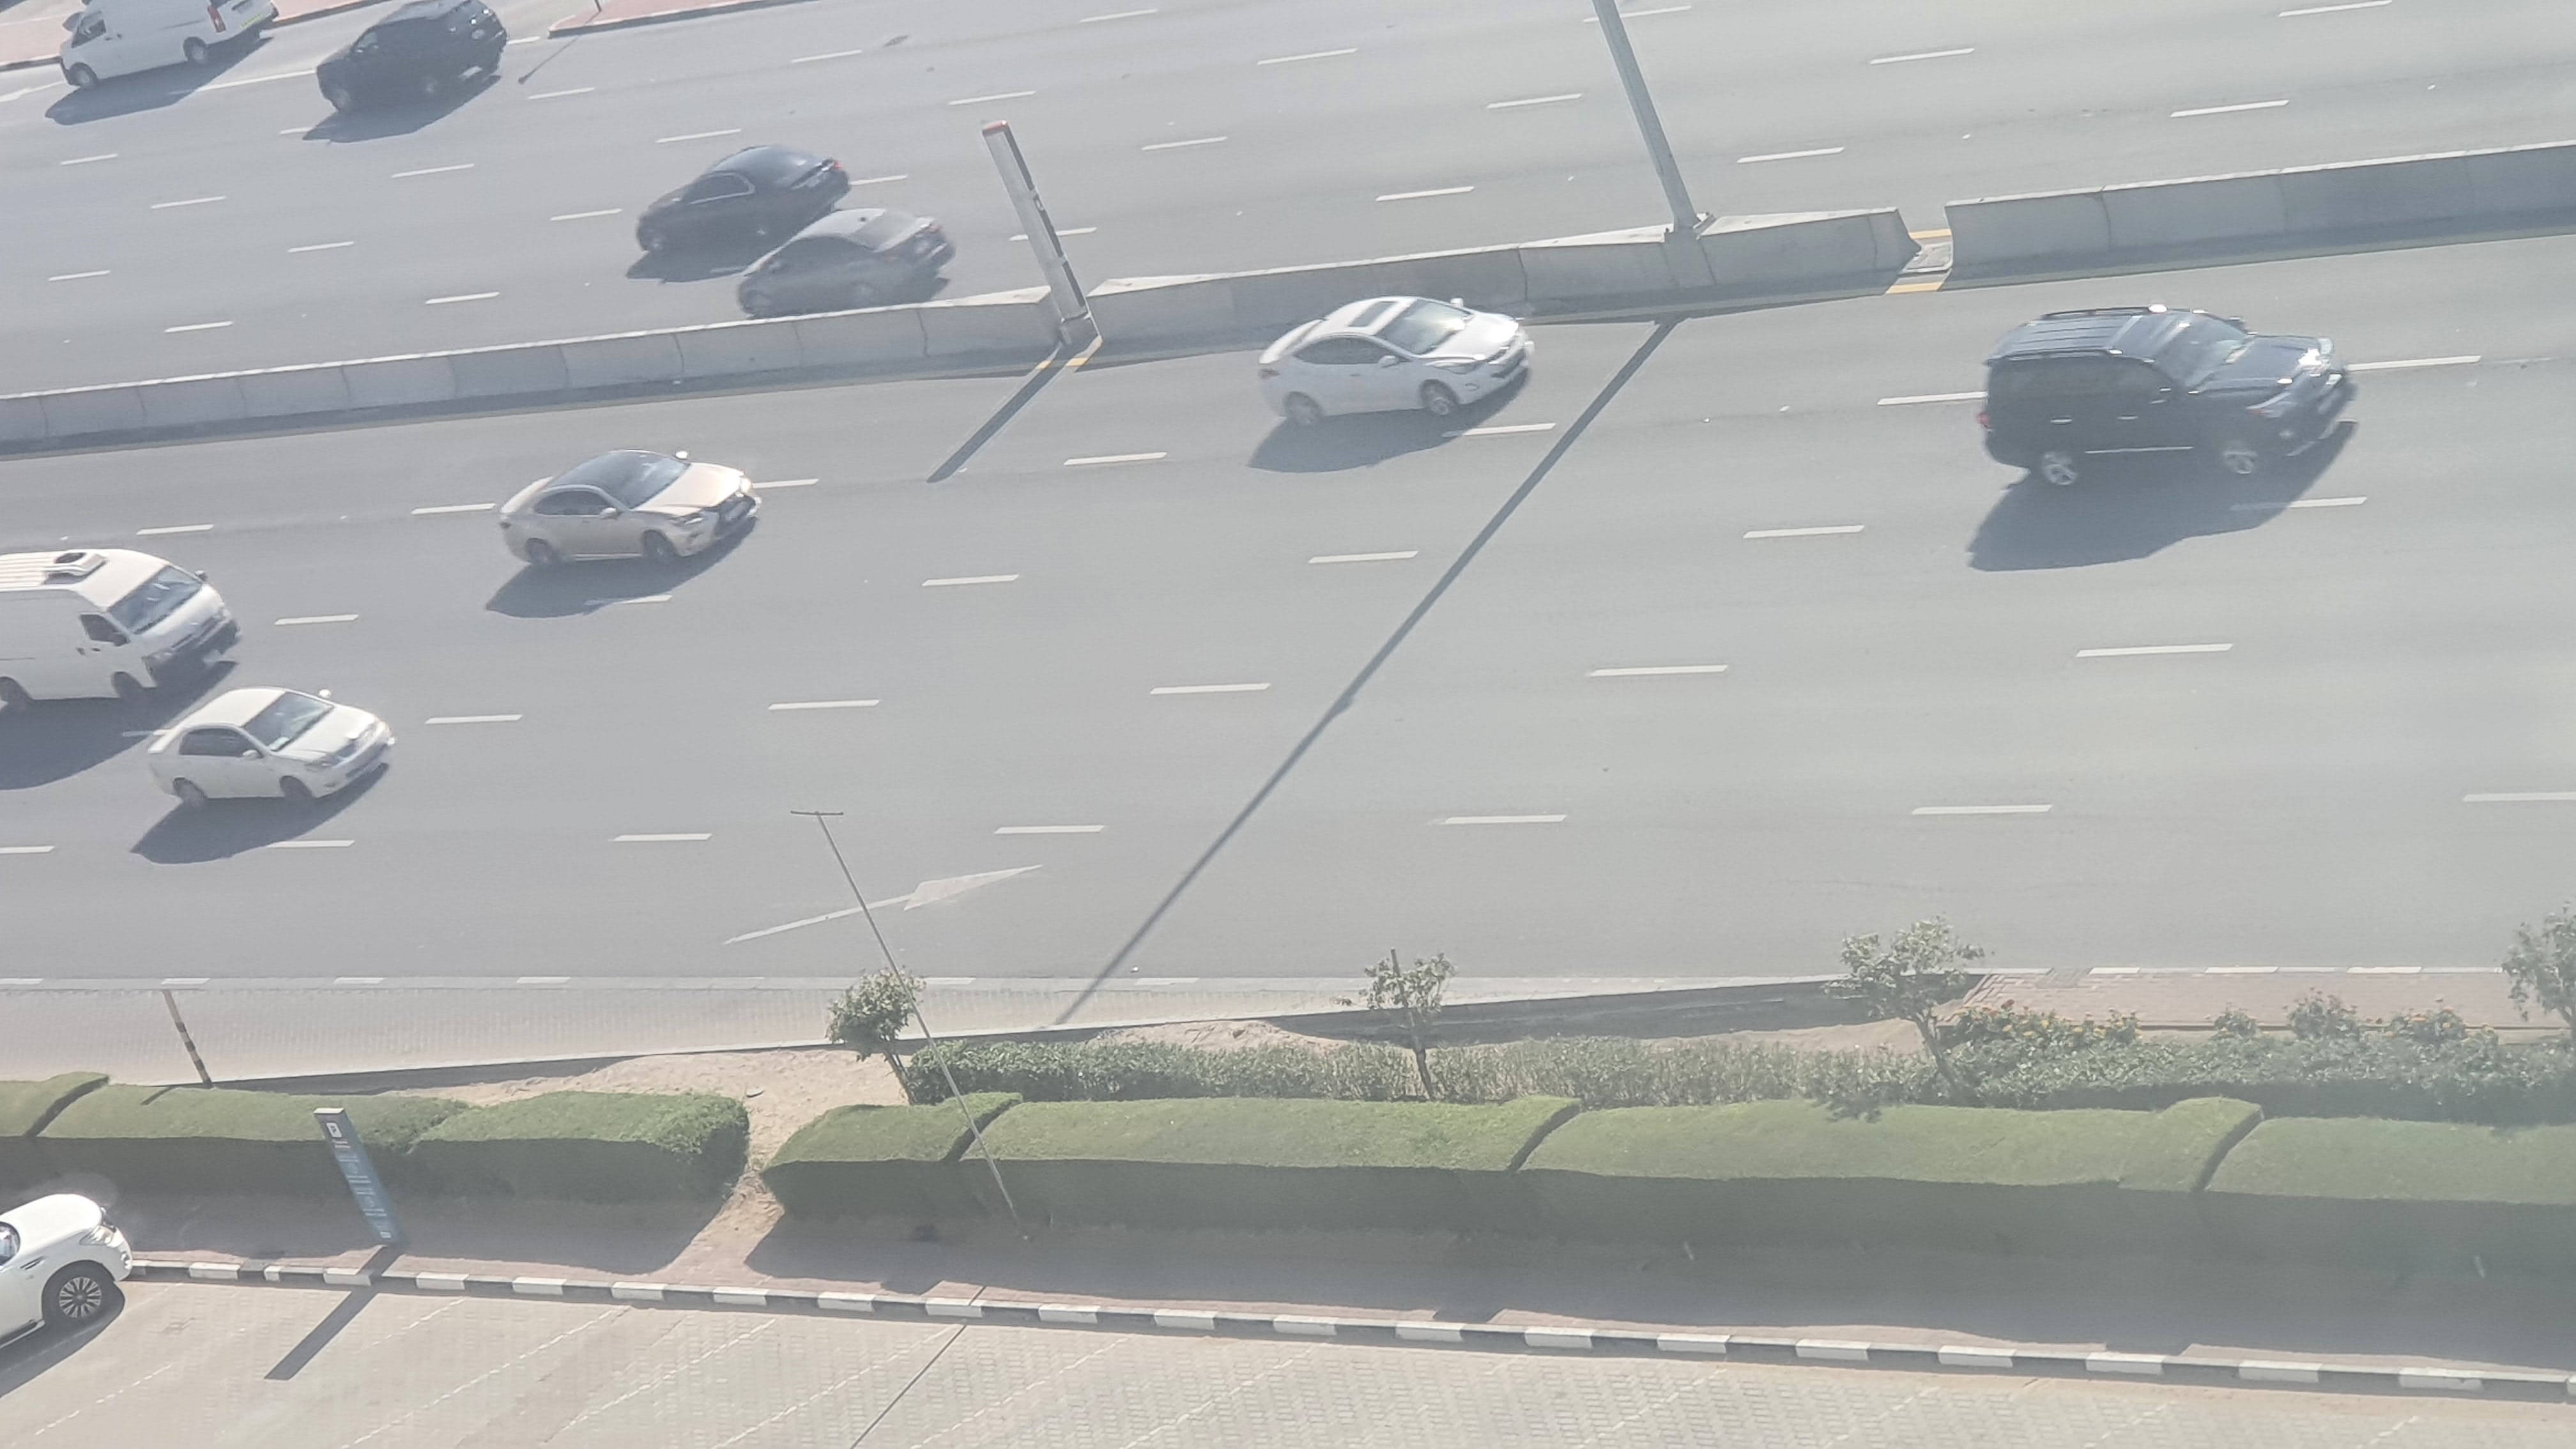NotSunroof: (143, 685, 398, 817)
Sunroof: (1978, 306, 2365, 501), (1253, 292, 1537, 423), (494, 446, 768, 580)
